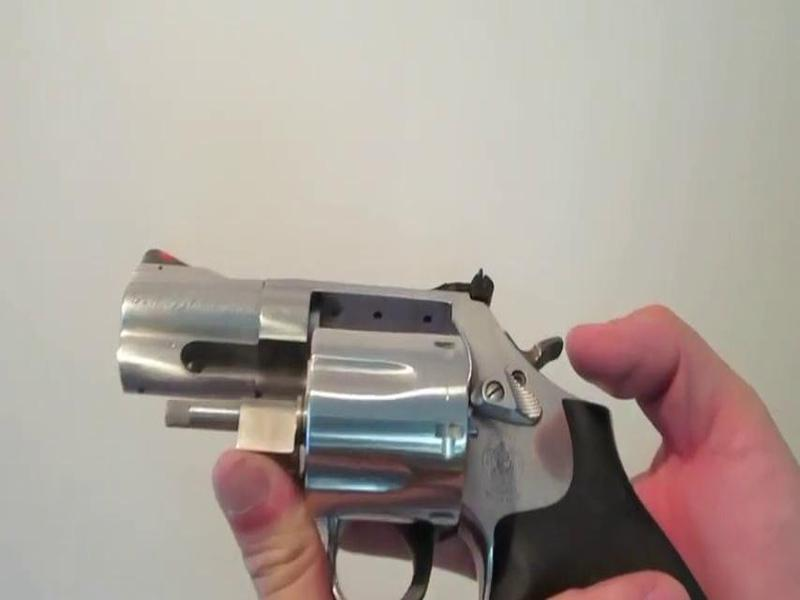Revolver: (91, 227, 635, 600)
